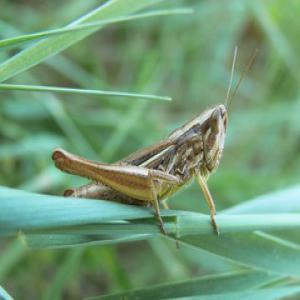locust: (55, 82, 244, 211)
